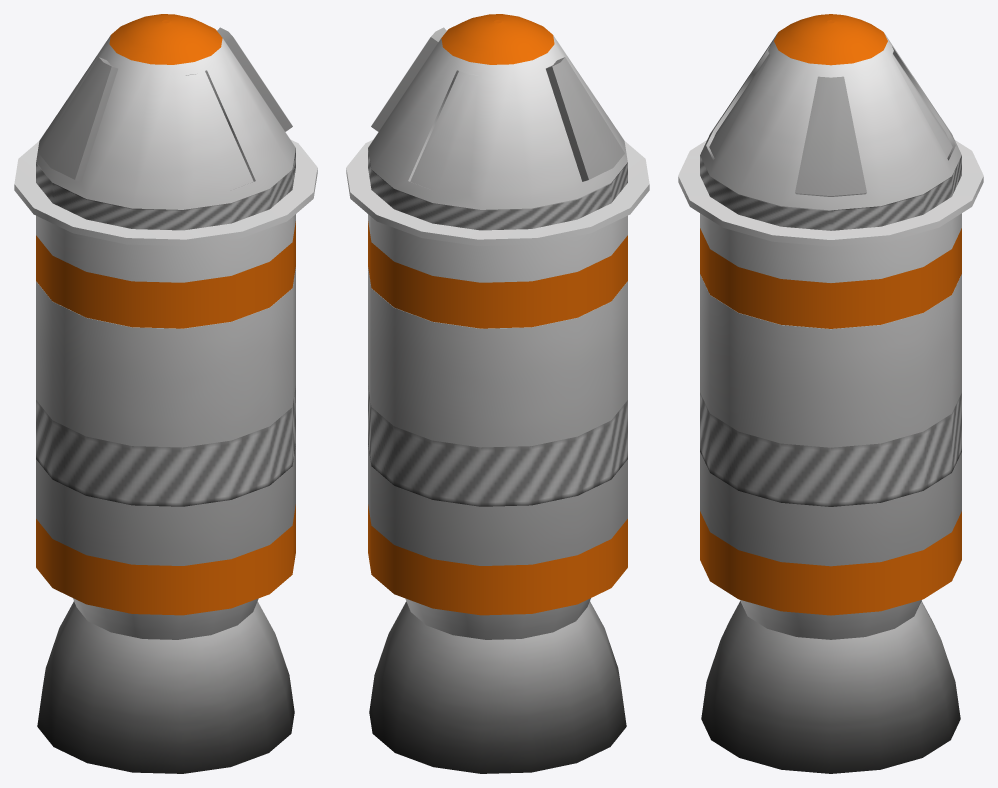
The model's file is Rocket.glb.
The picture shows the model from 3 angles, left to right: view 1: azimuth 30°, elevation 25°; view 2: azimuth 150°, elevation 25°; view 3: azimuth 270°, elevation 25°; orthographic projection.
Parts seen in each view (by area): view 1: Cylinder.001, Cylinder; view 2: Cylinder.001, Cylinder; view 3: Cylinder.001, Cylinder.
Part boxes in pixels (left/top/right/bottom): Cylinder.001: left=36, top=267, right=295, bottom=773; Cylinder: left=14, top=14, right=317, bottom=328; Cylinder.001: left=368, top=267, right=627, bottom=773; Cylinder: left=346, top=14, right=649, bottom=328; Cylinder.001: left=700, top=274, right=961, bottom=773; Cylinder: left=678, top=14, right=983, bottom=328.
Size of the model in its own units: 0.8719 by 2.2 by 0.8719.
2 materials, 1 textured.
